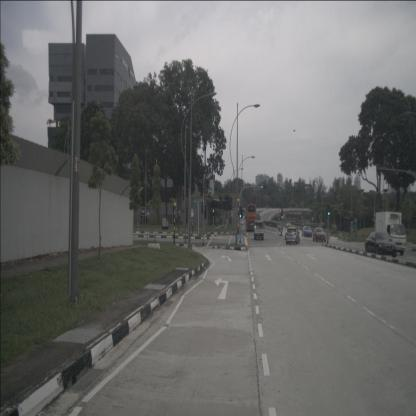movable_object-barrier: (274, 228, 279, 235), (268, 226, 272, 234), (265, 226, 269, 233), (262, 225, 266, 232), (272, 227, 274, 234)
vehicle-bus-rigid: (246, 203, 256, 233)
vehicle-car: (365, 231, 397, 258), (286, 228, 300, 244), (312, 227, 326, 243), (302, 226, 312, 238), (239, 216, 244, 226)
vehicle-motorcycle: (285, 224, 289, 240)
vehicle-truck: (375, 211, 407, 256), (254, 220, 264, 240)
